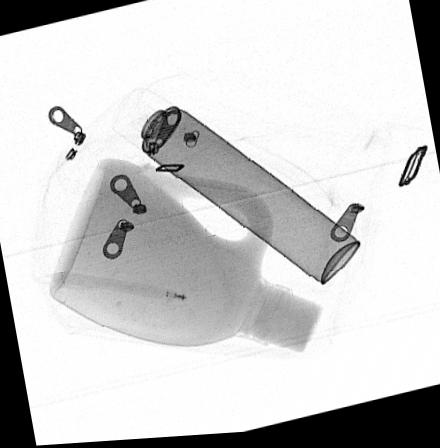Sprayer: (112, 89, 359, 290)
